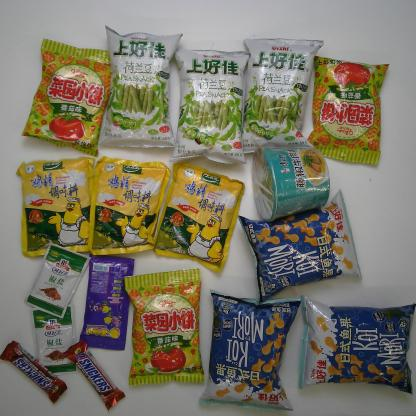Candy: (77, 248, 136, 351)
Chocolate: (61, 338, 127, 414), (0, 338, 68, 406)
Instant Noodles: (247, 138, 332, 226)
Puffed Food: (235, 185, 365, 304), (193, 287, 305, 413), (292, 291, 416, 399), (20, 37, 122, 157), (96, 22, 186, 153), (234, 31, 327, 155), (302, 51, 392, 170), (166, 45, 252, 169), (121, 267, 205, 391)
Seasoner: (153, 159, 250, 274), (81, 151, 171, 257), (17, 153, 103, 259), (23, 240, 93, 321), (29, 300, 78, 380)
